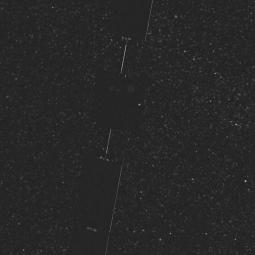smart_1: (53, 20, 156, 244)
